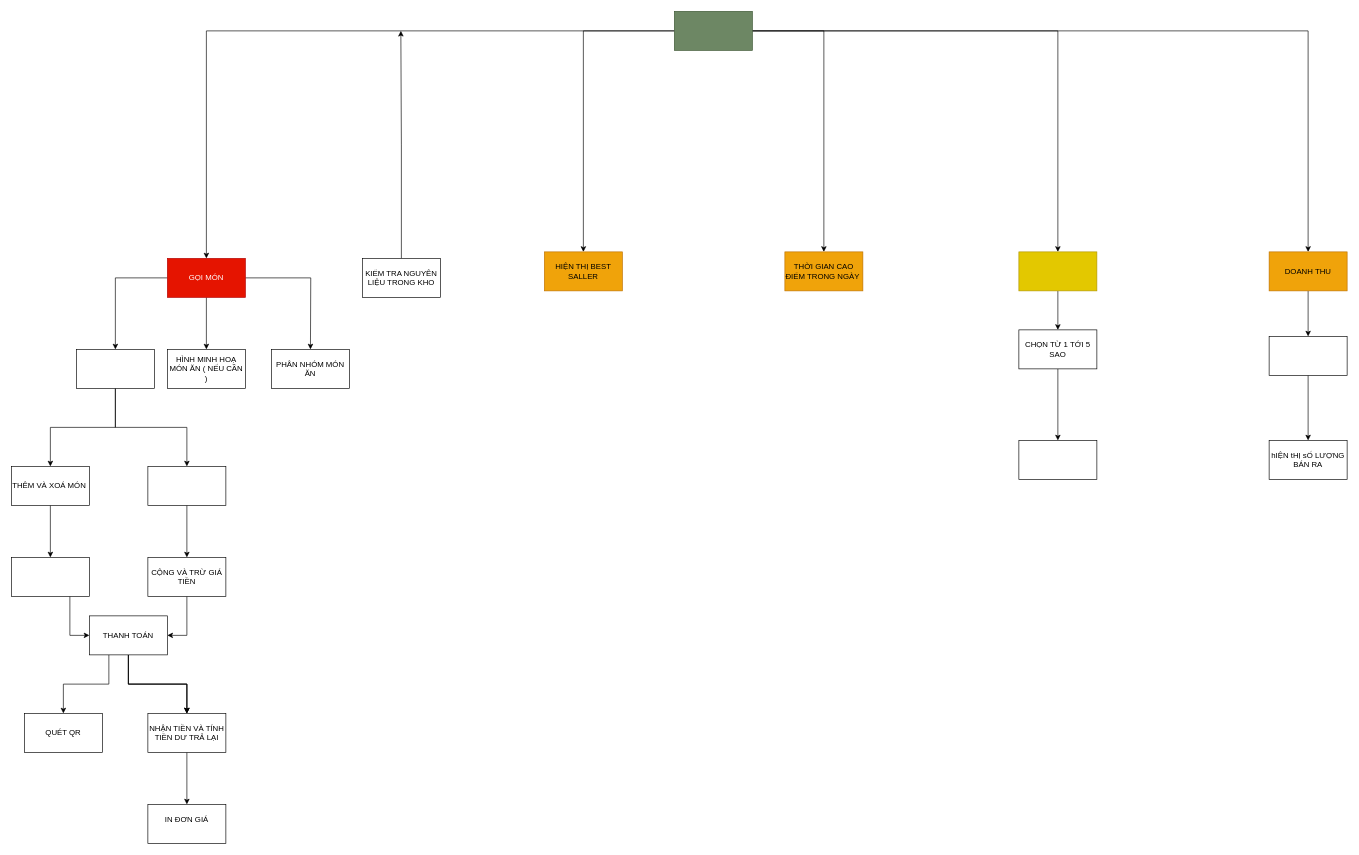
This 1359x855 diagram has some shape labels left out. Here are the shapes that lost their labels. From the top down, the centre of each, then its label:
the point at 713,30: PHẦN MỀM BÁN NƯỚC
the point at 1057,271: ĐÁNH GIÁ
the point at 115,368: DANH SÁCH VÀ GIÁ TIỀN
the point at 1307,355: TÍNH SỐ DOANH THU ( THEO NGÀY, TUÀN, THÁNG)
the point at 1057,459: VIẾT ĐÁNH GIÁ
the point at 186,485: TĂNG GIẢM SỐ LƯỢNG
the point at 50,576: GHI CHÚ YÊU CẦU
